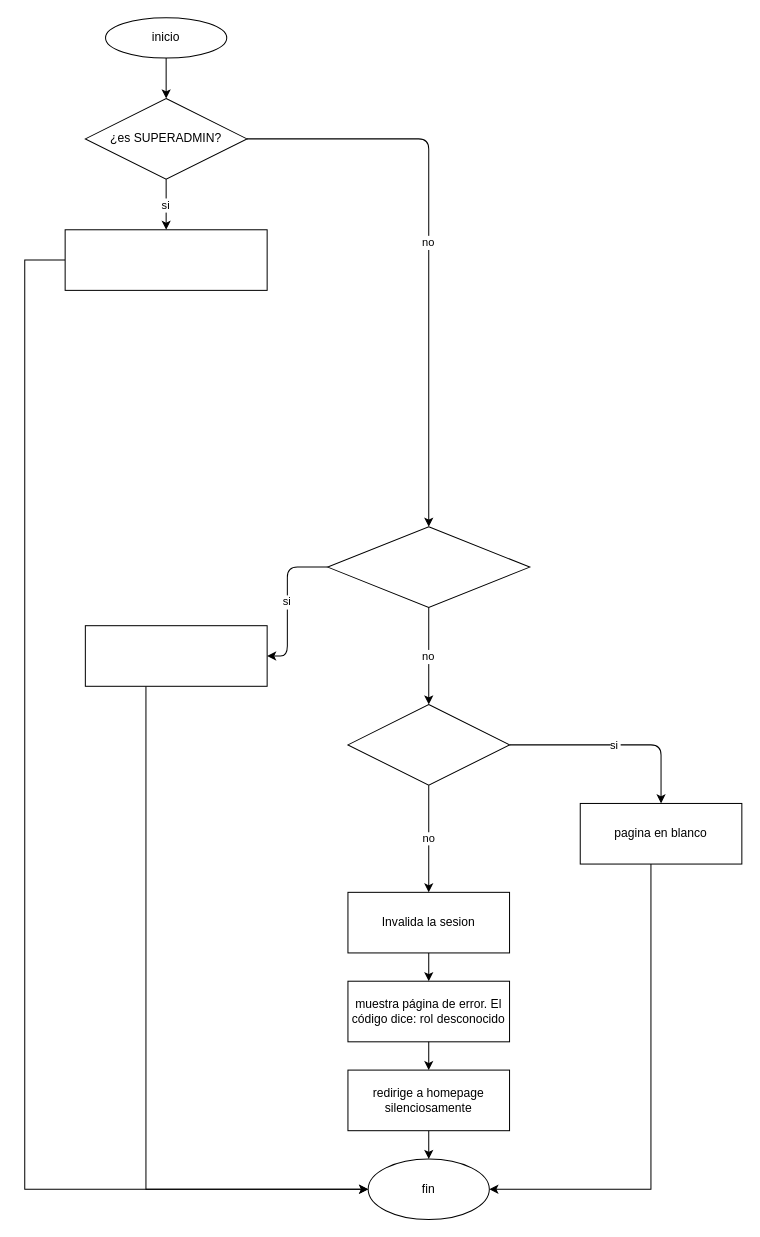
This 760x1237 diagram has some shape labels left out. The shapes that lost their labels are listed below. From the top down, each one's box as (x1, y1, x2, y2) in pixels, then its label:
(64, 229, 267, 290): muestra registro notaria/inmobiliaria paso 1
(327, 526, 530, 608): ¿es WORKSPACE_ADMIN?
(84, 625, 267, 686): muestra registro auxiliar paso 1
(347, 703, 510, 785): ¿es AUXILIARY?
